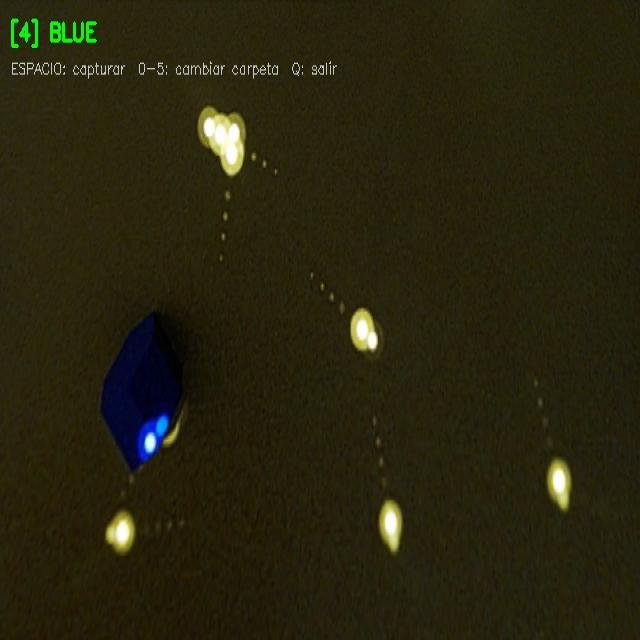blue: (99, 308, 190, 472)
